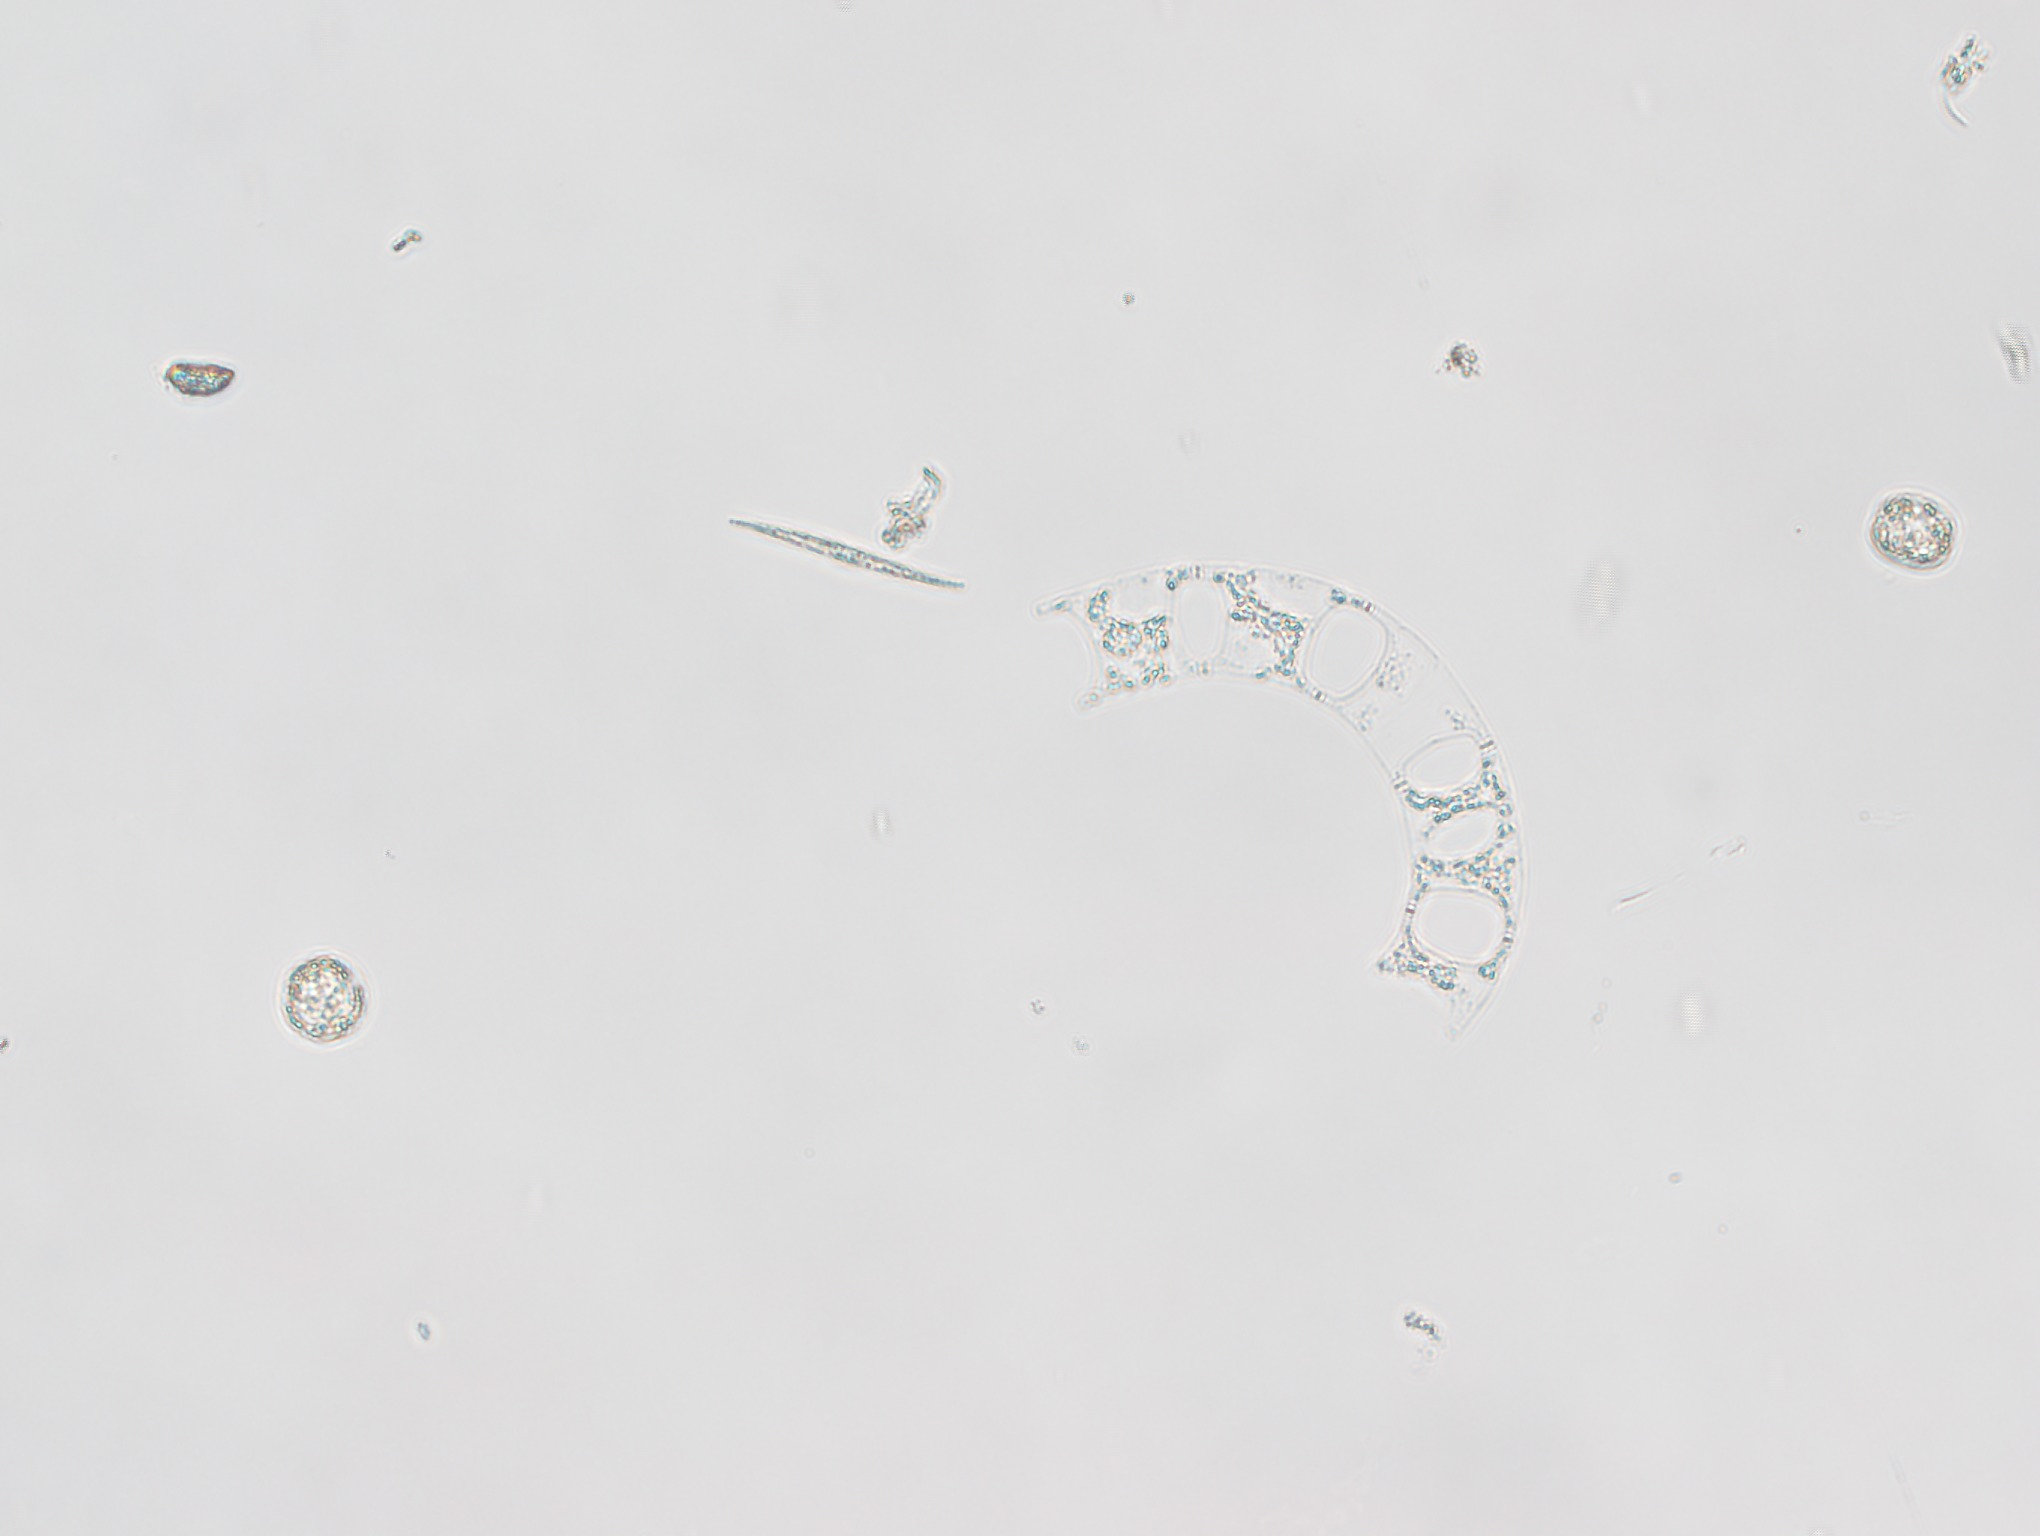eucampia: (1019, 563, 1571, 1046)
pleurosigma pelagicum: (716, 508, 974, 623)
